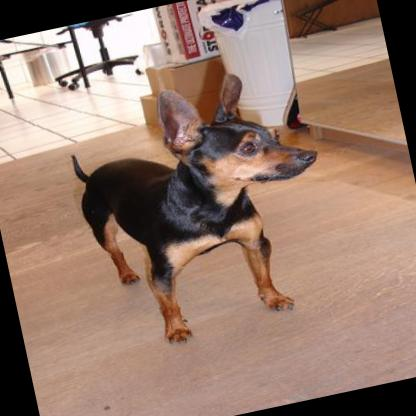miniature_pinscher: (57, 55, 348, 358)
